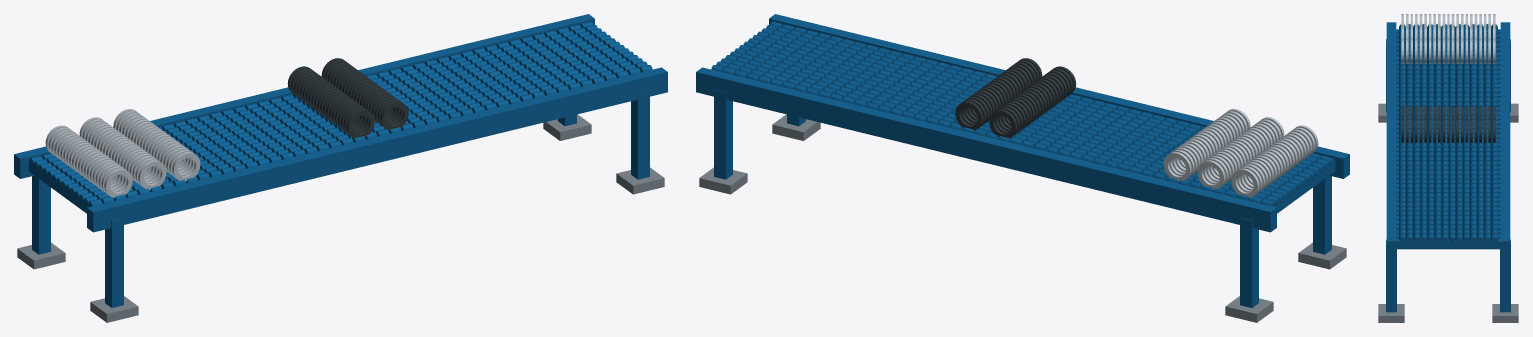
Rendered from back_ring_storage_bed.dae.
3 renders of one model, left to right at view 1: azimuth 30°, elevation 25°; view 2: azimuth 150°, elevation 25°; view 3: azimuth 270°, elevation 25°, orthographic. The views are drawn at different scales.
Visible parts, largest first — view 1: back_ring_storage_bed; view 2: back_ring_storage_bed; view 3: back_ring_storage_bed.
Part boxes in pixels (x1,y1,x2,y2): back_ring_storage_bed: [14, 14, 667, 322]; back_ring_storage_bed: [696, 14, 1349, 322]; back_ring_storage_bed: [1378, 14, 1518, 322].
Bounding box in the file's own units: 4.75 × 1.28 × 1.07.
